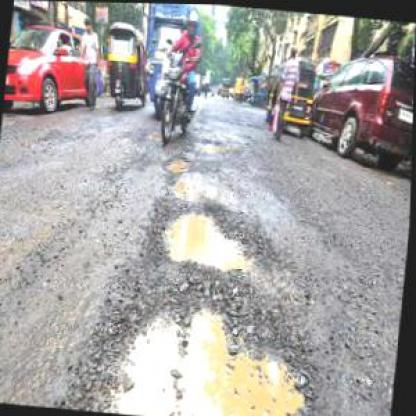pothole: (75, 270, 337, 414), (147, 194, 270, 271), (173, 169, 204, 197), (193, 133, 229, 157), (165, 148, 193, 175)
